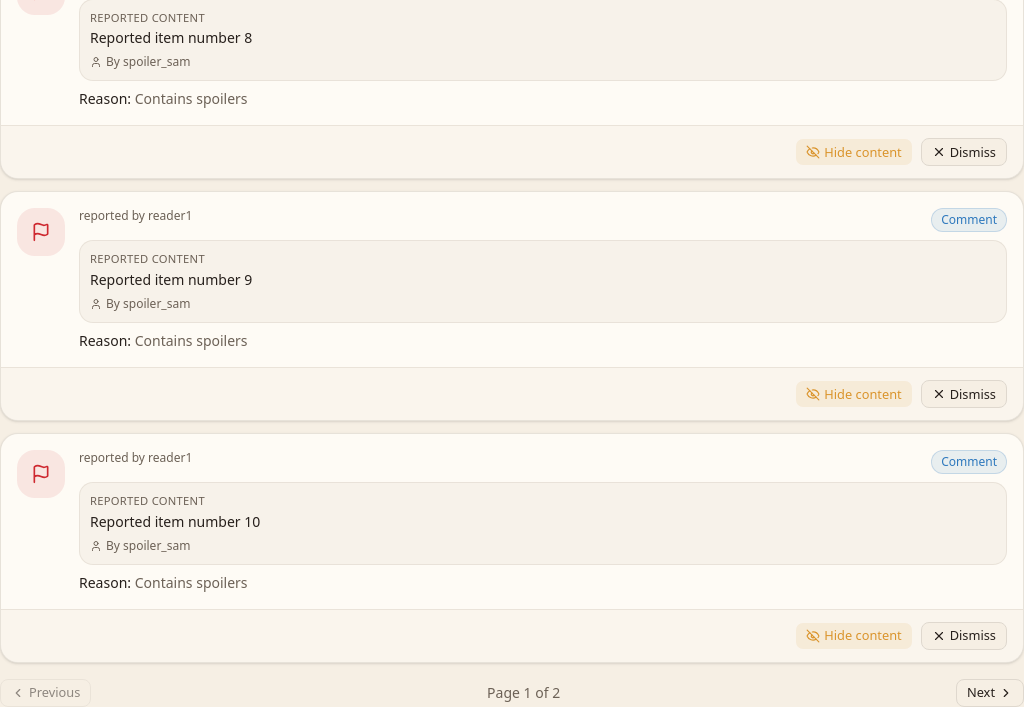
Test: ReportsQueuePage › paginates when there are more than ten reports
This screenshot has width=1024, height=707.
(page scrolled)
expect the text "Reported item number 12" is not shown: met
expect the text "Page 1 of 2" is shown: met, box [487,683,560,703]
Click the button "Next" at [990, 693], box [956,679,1023,706]
(page scrolled)
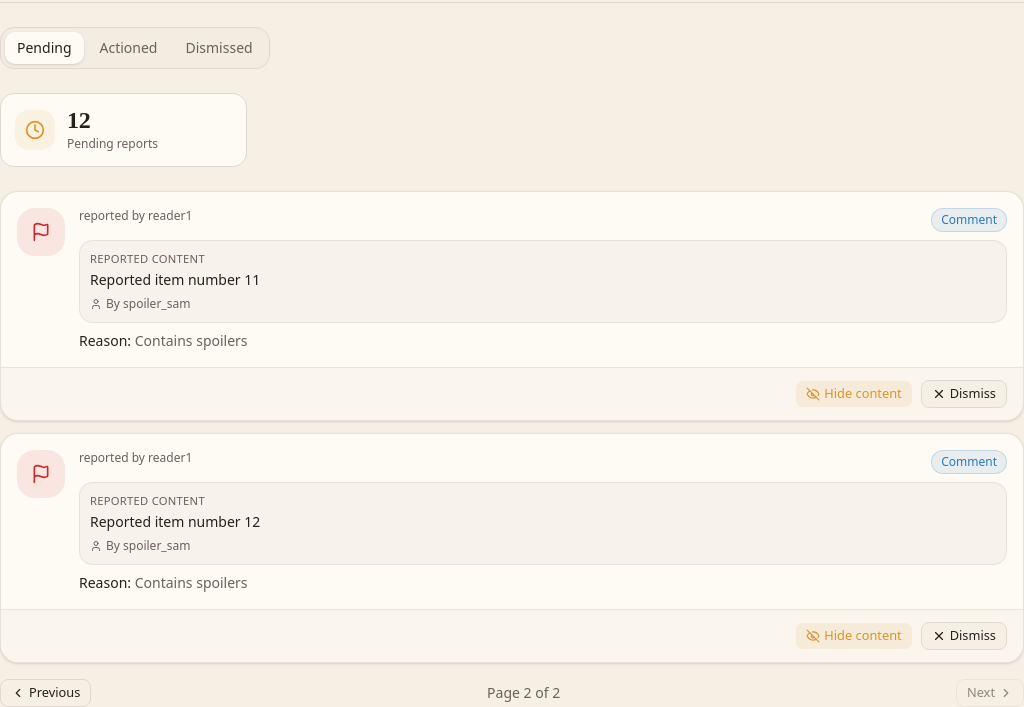
expect the text "Reported item number 12" is shown: met, box [90,512,260,531]
expect the text "Page 2 of 2" is shown: met, box [487,683,560,703]
